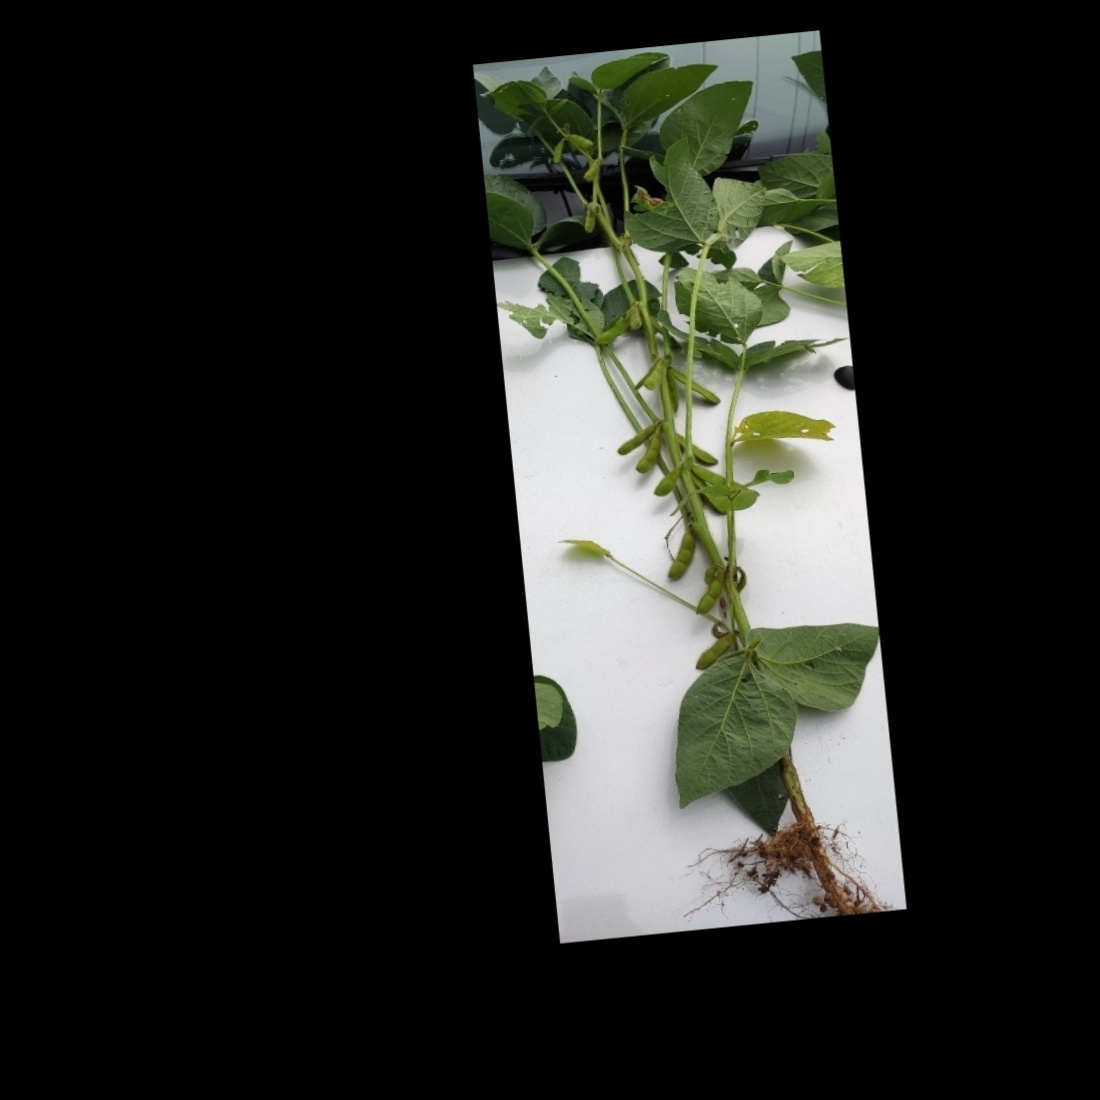pod: (667, 362, 724, 411), (658, 527, 701, 590), (679, 628, 739, 673), (609, 421, 661, 456), (622, 432, 659, 477), (689, 574, 726, 618), (593, 312, 633, 346), (641, 356, 676, 390), (578, 202, 600, 238), (562, 130, 596, 151), (577, 157, 604, 183), (546, 138, 568, 169), (626, 296, 644, 332)
soy: (489, 49, 895, 931)
